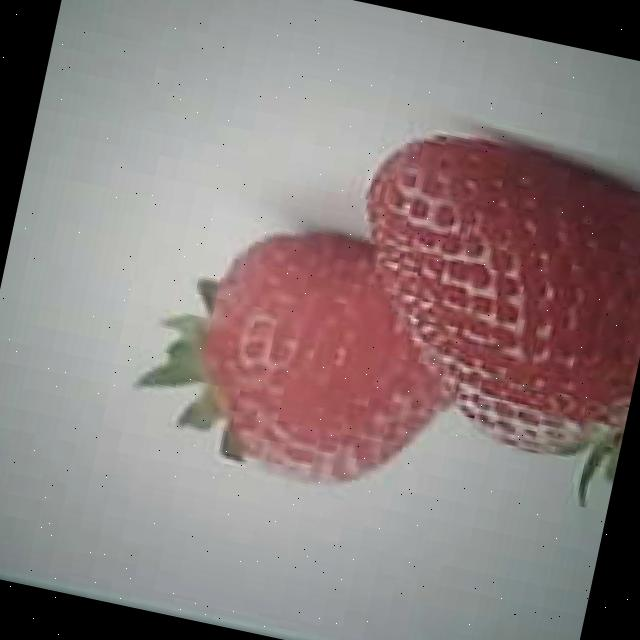strawberry: (321, 118, 640, 472), (181, 219, 484, 513)
